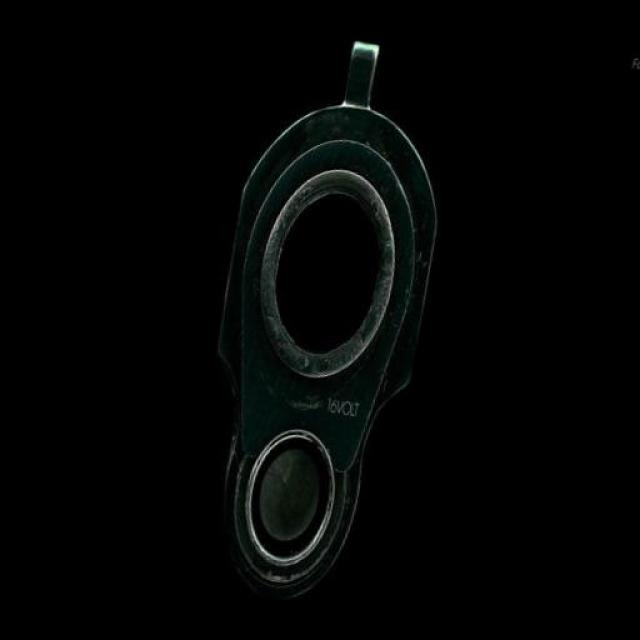gun: (164, 11, 468, 620)
